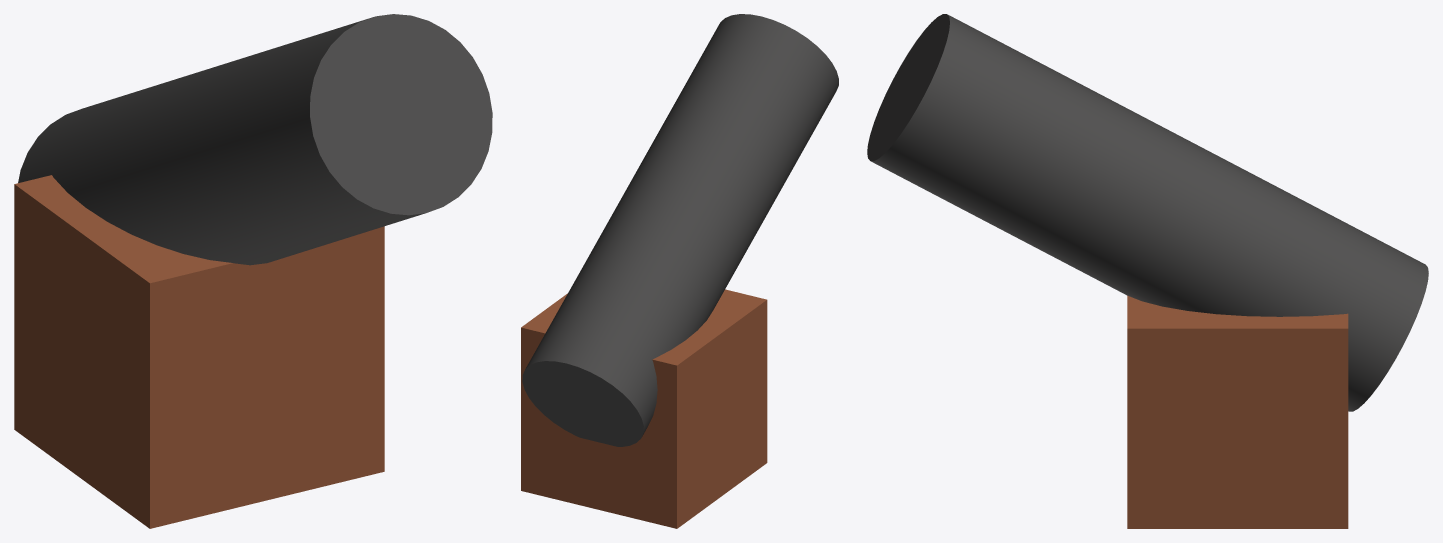
File: Cannon.fbx
3 views of the same model, side by side, from view 1: azimuth 30°, elevation 25°; view 2: azimuth 150°, elevation 25°; view 3: azimuth 270°, elevation 25° (orthographic). The views are drawn at different scales.
Visible parts, largest first — view 1: Cube; view 2: Cube; view 3: Cube.
Part boxes in pixels (<box>): Cube: <box>14,14,492,528</box>; Cube: <box>521,14,838,528</box>; Cube: <box>867,14,1428,528</box>.
Bounding box in the file's own units: 80 × 203 × 184.
